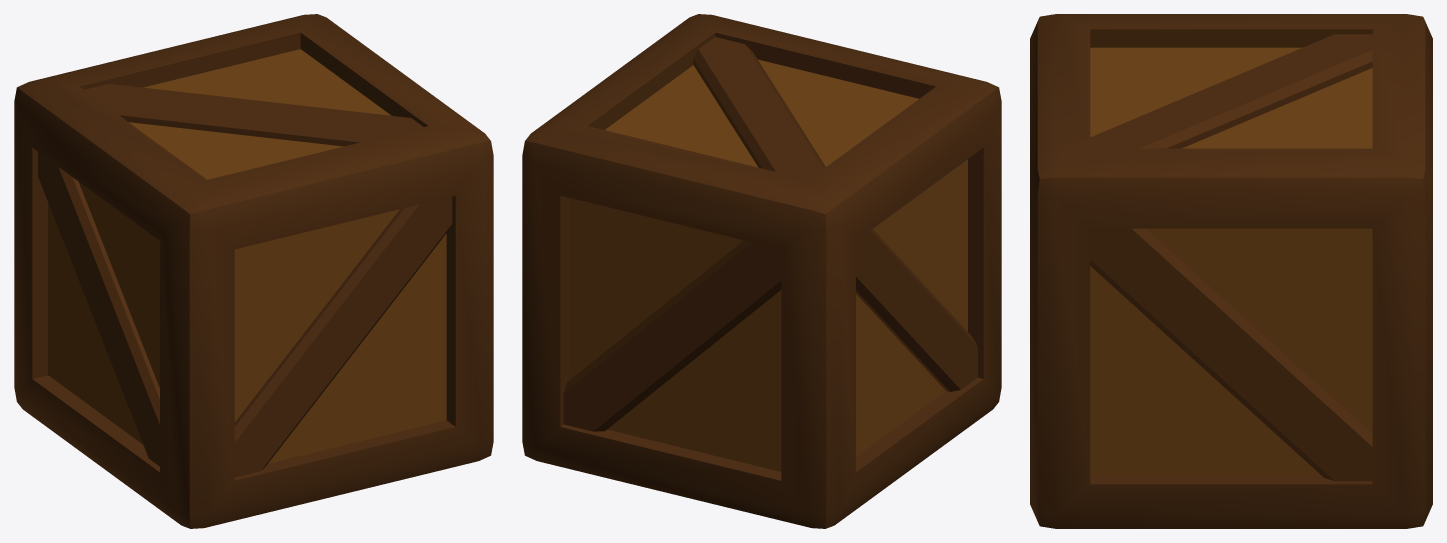
The model's file is Cube_Crate.fbx.
3 views of the same model, side by side, from view 1: azimuth 30°, elevation 25°; view 2: azimuth 150°, elevation 25°; view 3: azimuth 270°, elevation 25° (orthographic). The views are drawn at different scales.
Parts seen in each view (by area): view 1: Cube_Crate; view 2: Cube_Crate; view 3: Cube_Crate.
Part boxes in pixels (bbox=[...]): Cube_Crate: bbox=[14, 14, 493, 528]; Cube_Crate: bbox=[522, 14, 1001, 528]; Cube_Crate: bbox=[1030, 14, 1432, 528].
Bounding box in the file's own units: 202 × 202 × 202.
